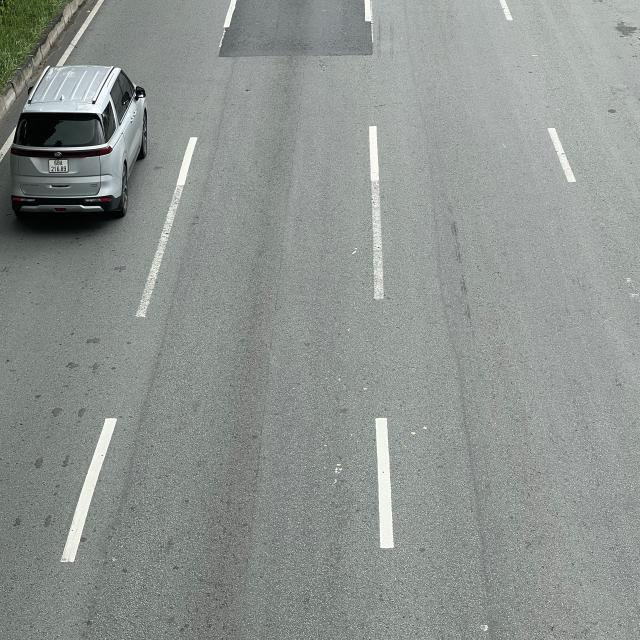car: (8, 64, 148, 216)
